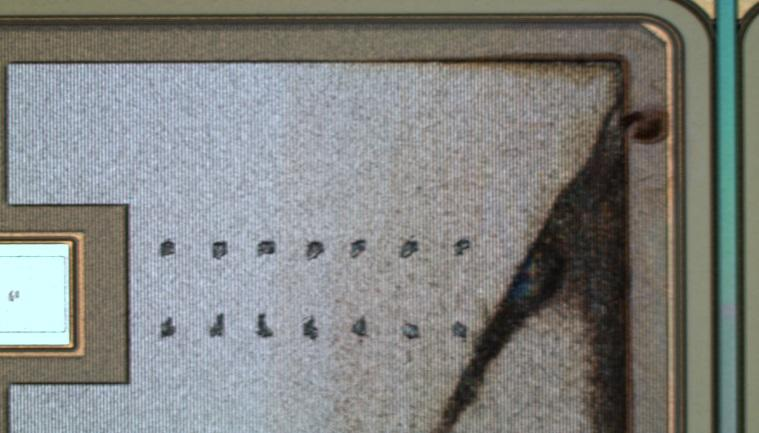SEZ BURNT: (233, 51, 673, 433)
